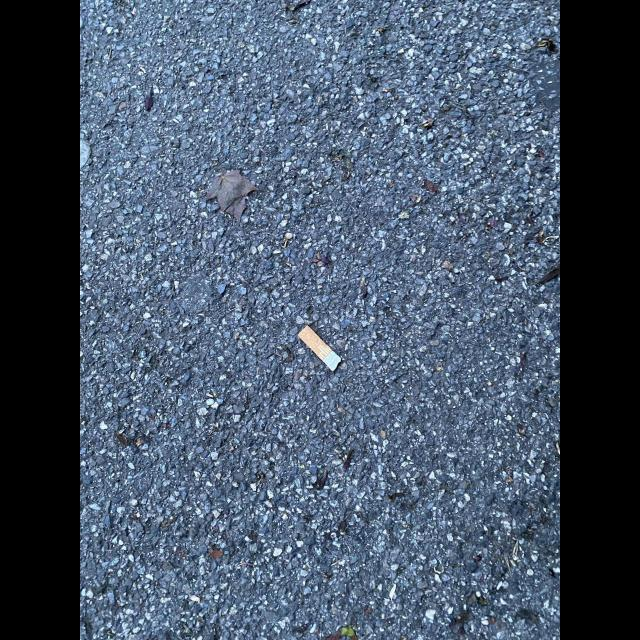cigarette: (298, 324, 342, 372)
